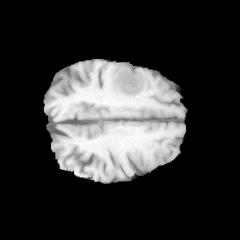glioma: (112, 65, 146, 97)
